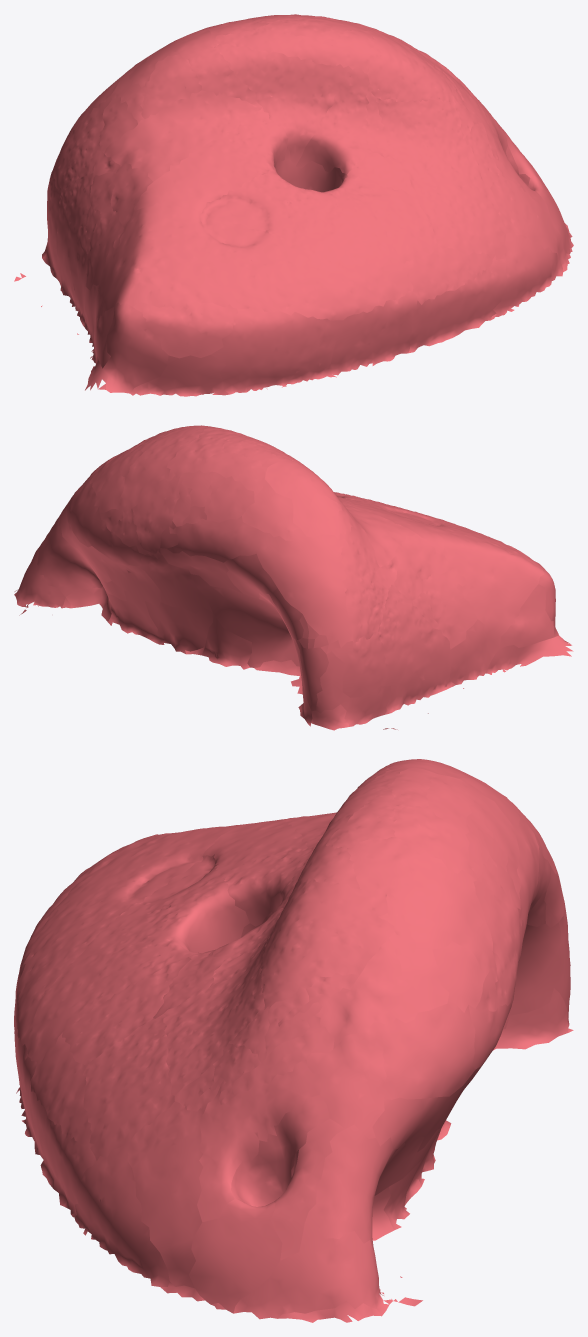
Rendered from test-red-clean.glb.
3 views of the same model, one above another, from view 1: azimuth 30°, elevation 25°; view 2: azimuth 150°, elevation 25°; view 3: azimuth 270°, elevation 25° (orthographic). The views are drawn at different scales.
Parts seen in each view (by area): view 1: HoldMesh; view 2: HoldMesh; view 3: HoldMesh.
Boxes of the visible parts, x1=… form: HoldMesh: x1=14, y1=14, x2=573, y2=396; HoldMesh: x1=14, y1=425, x2=573, y2=730; HoldMesh: x1=14, y1=759, x2=573, y2=1322.
Size of the model in its own units: 0.166 by 0.0717 by 0.1048.
